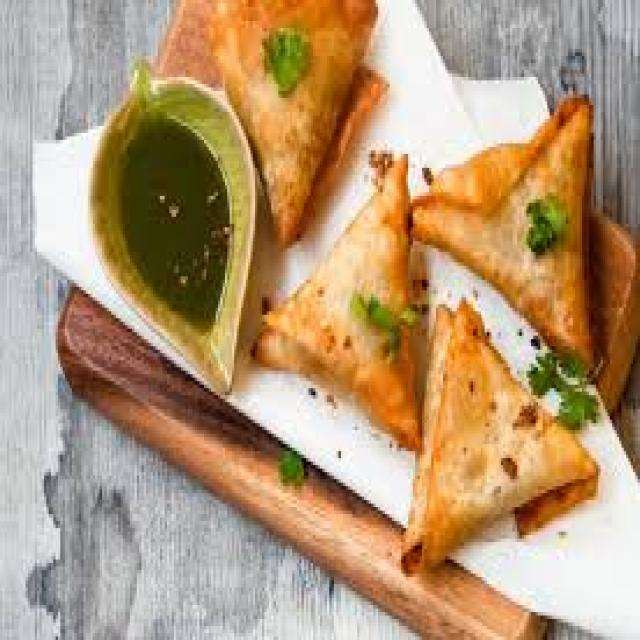SAMOSA: (401, 301, 596, 570), (255, 157, 417, 448), (413, 98, 589, 357), (211, 0, 373, 241)
